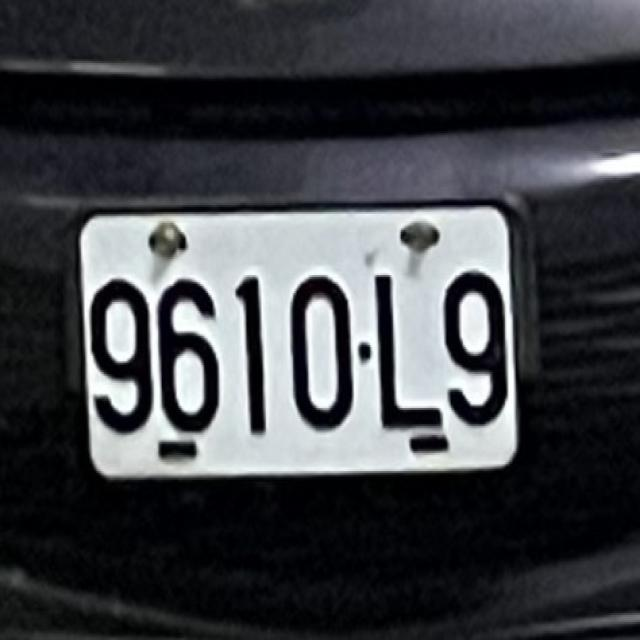license-plate: (67, 162, 526, 508)
